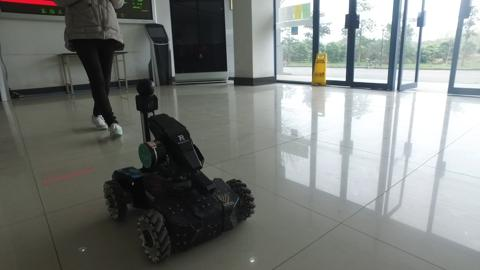chariot: (90, 74, 265, 265)
